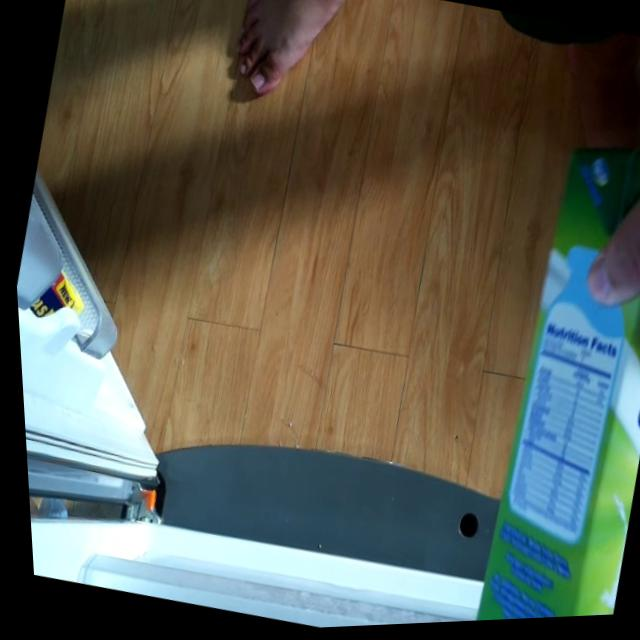milk: (429, 114, 640, 625)
